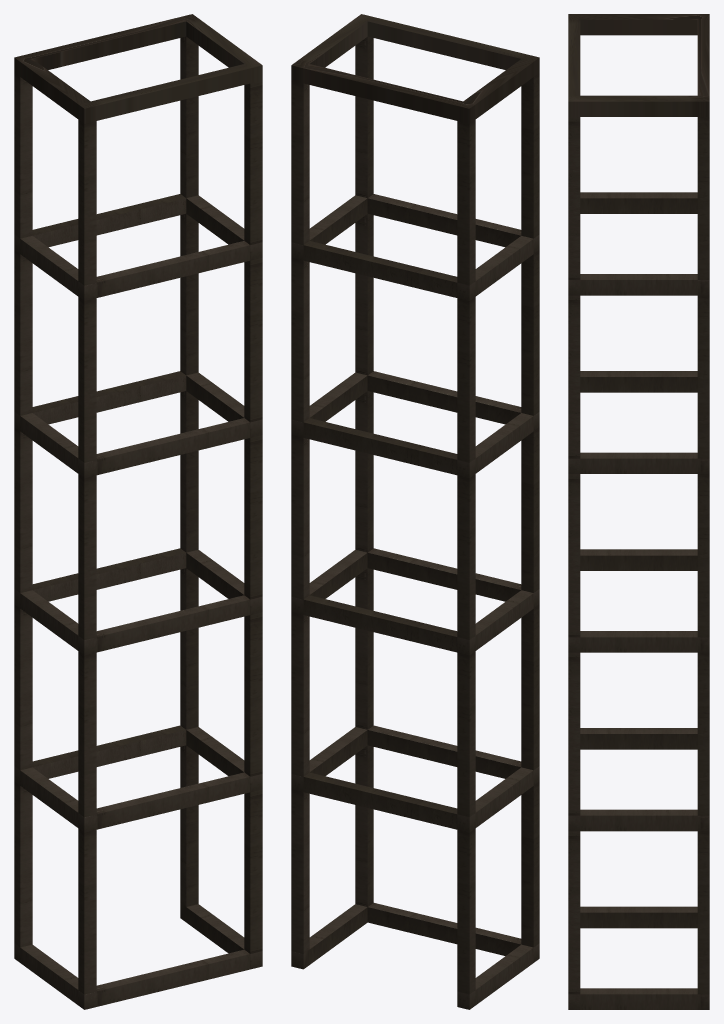
The model's file is Tower_Elevator_F1.glb.
3 views of the same model, side by side, from view 1: azimuth 30°, elevation 25°; view 2: azimuth 150°, elevation 25°; view 3: azimuth 270°, elevation 25° (orthographic).
Parts seen in each view (by area): view 1: Tower_Elevator_F1; view 2: Tower_Elevator_F1; view 3: Tower_Elevator_F1.
Part boxes in pixels (x1,y1,x2,y2): Tower_Elevator_F1: (14,14,262,1009); Tower_Elevator_F1: (291,14,539,1009); Tower_Elevator_F1: (568,14,709,1009).
Bounding box in the file's own units: 3.3 × 15.95 × 2.25.
Materials: 1 (1 with a texture image).
